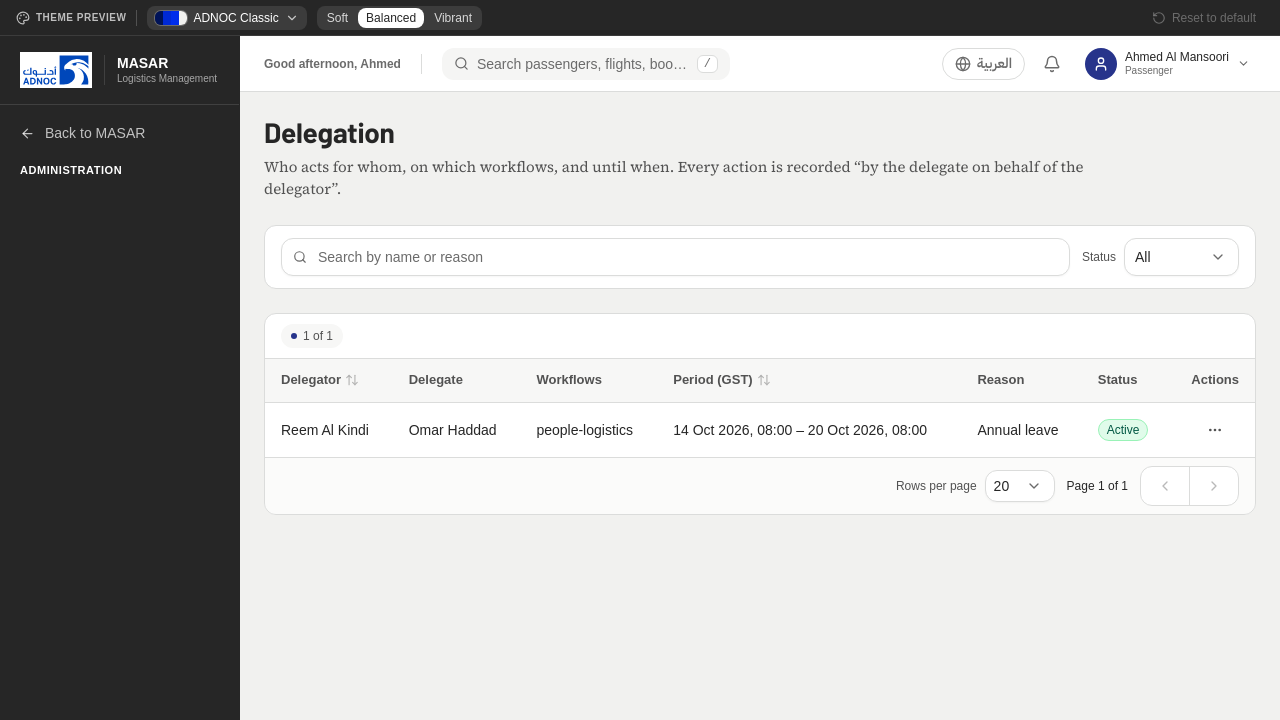
Scenario: BRD-D.2.1.4-MST the Delegation page (spec 10 §2.4) › PROMPT-2.7 a viewer can’t change delegations
The width and height of the screenshot is (1280, 720).
Click the button named "Actions for Reem Al Kindi → Omar Haddad".
click(1215, 430)  # box x1=1191 y1=411 x2=1239 y2=449
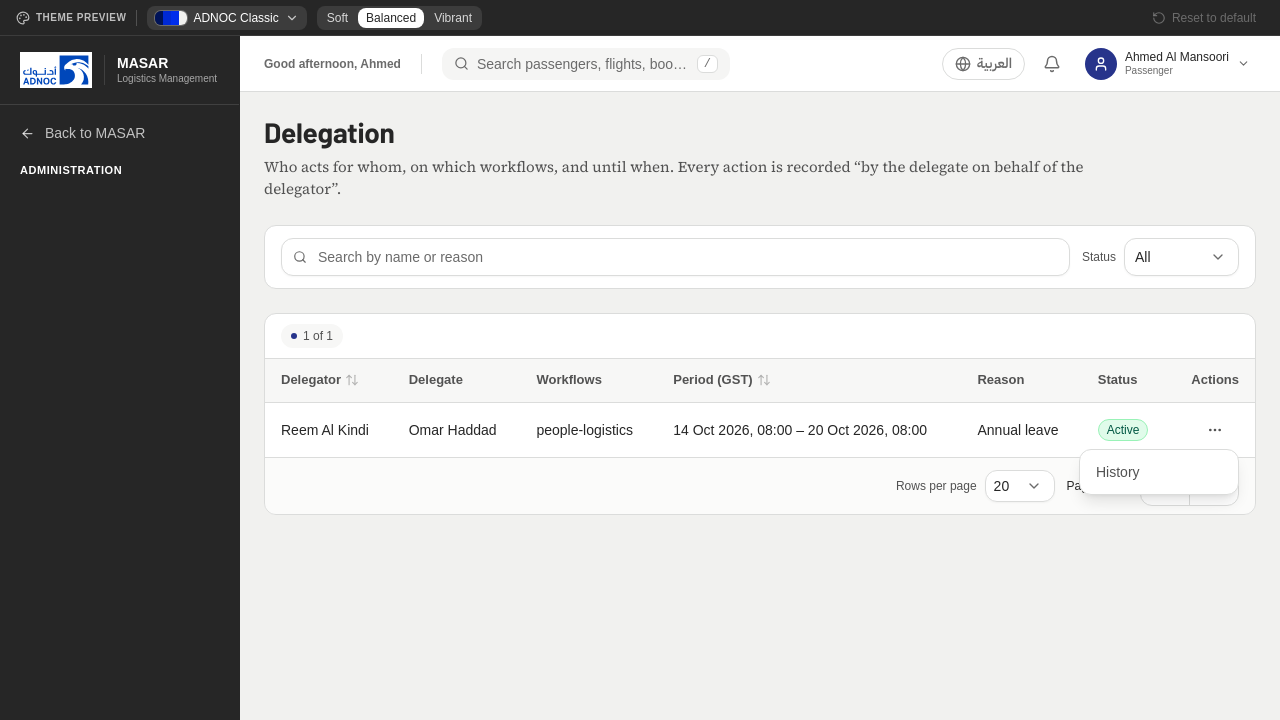
Check: the menu items read "History", in this order, box x1=1096 y1=464 x2=1140 y2=480
